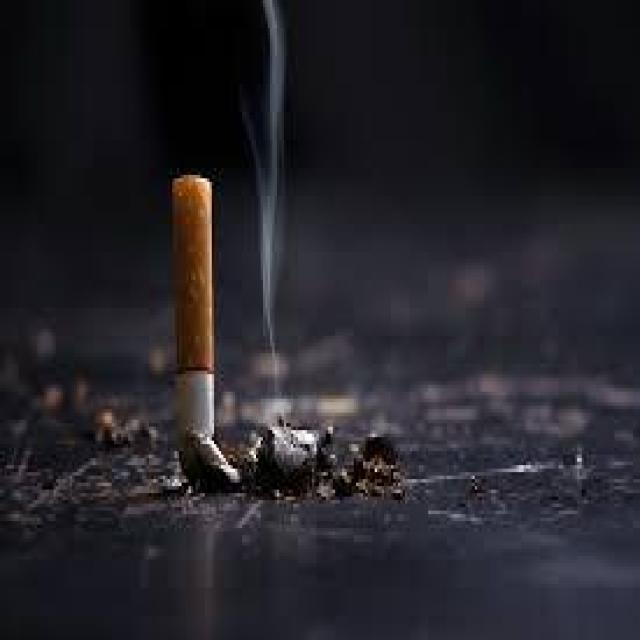cigarette: (175, 175, 219, 455)
